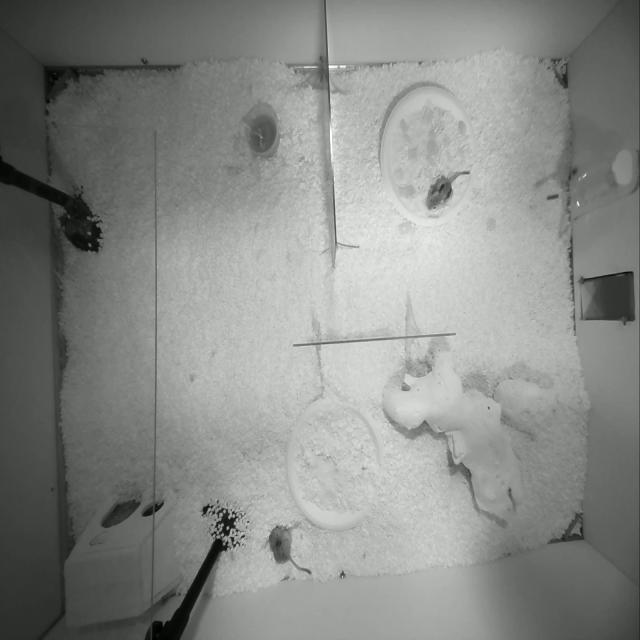pup_fluffy: (269, 526, 311, 574)
pup_v_stripe: (429, 172, 468, 207)
